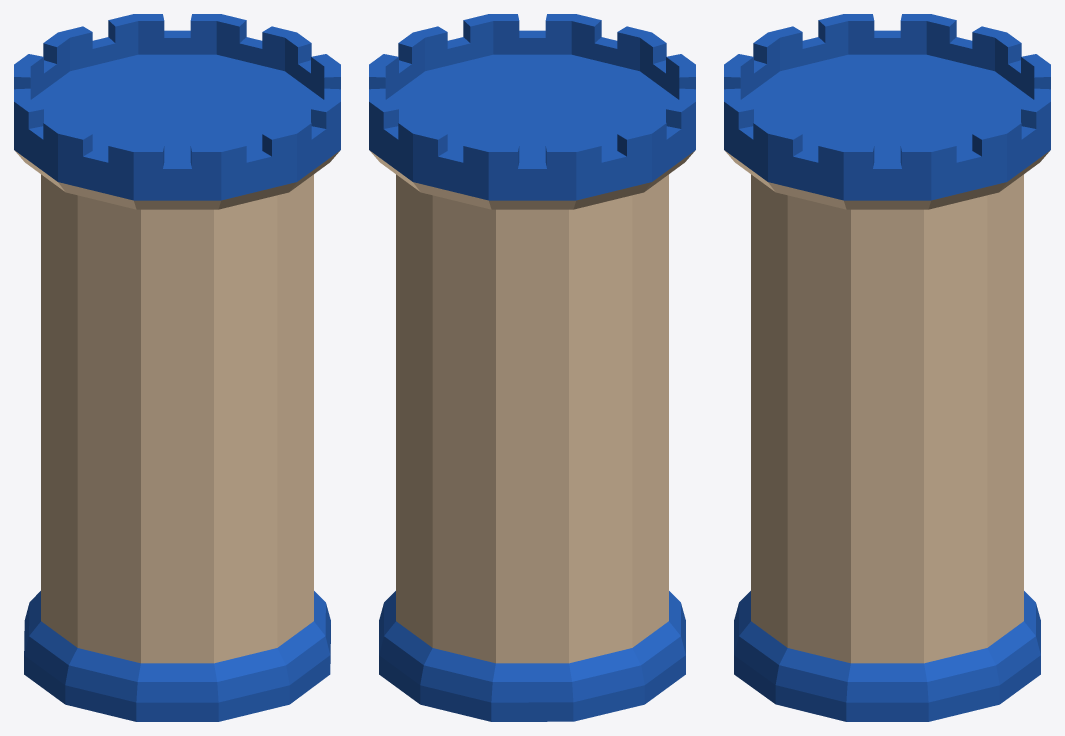
Rendered from Castle Tower_Textured.fbx.
3 views of the same model, side by side, from view 1: azimuth 30°, elevation 25°; view 2: azimuth 150°, elevation 25°; view 3: azimuth 270°, elevation 25° (orthographic).
Parts seen in each view (by area): view 1: Tower; view 2: Tower; view 3: Tower.
Part boxes in pixels (x1,y1,x2,y2): Tower: (14,14,340,721); Tower: (369,14,695,721); Tower: (724,14,1050,721).
Bounding box in the file's own units: 231 × 449 × 231.
